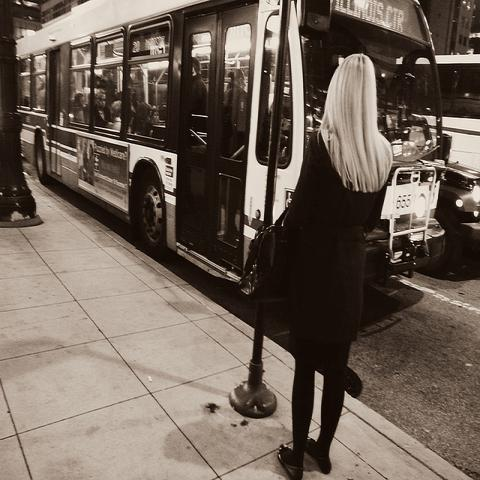bus: (20, 0, 442, 294)
car: (434, 153, 479, 250)
